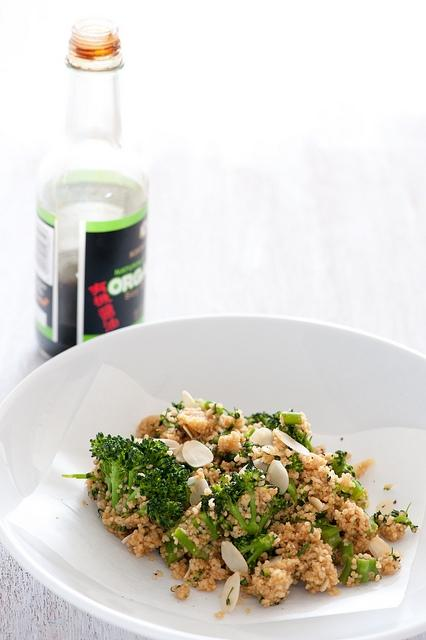broccoli: (90, 432, 190, 530), (229, 466, 264, 530), (230, 532, 278, 572), (316, 516, 354, 566), (338, 556, 380, 583), (328, 450, 356, 478), (342, 480, 367, 510), (278, 424, 306, 448), (251, 412, 282, 431), (199, 511, 219, 539), (394, 516, 418, 530), (195, 544, 212, 561)
